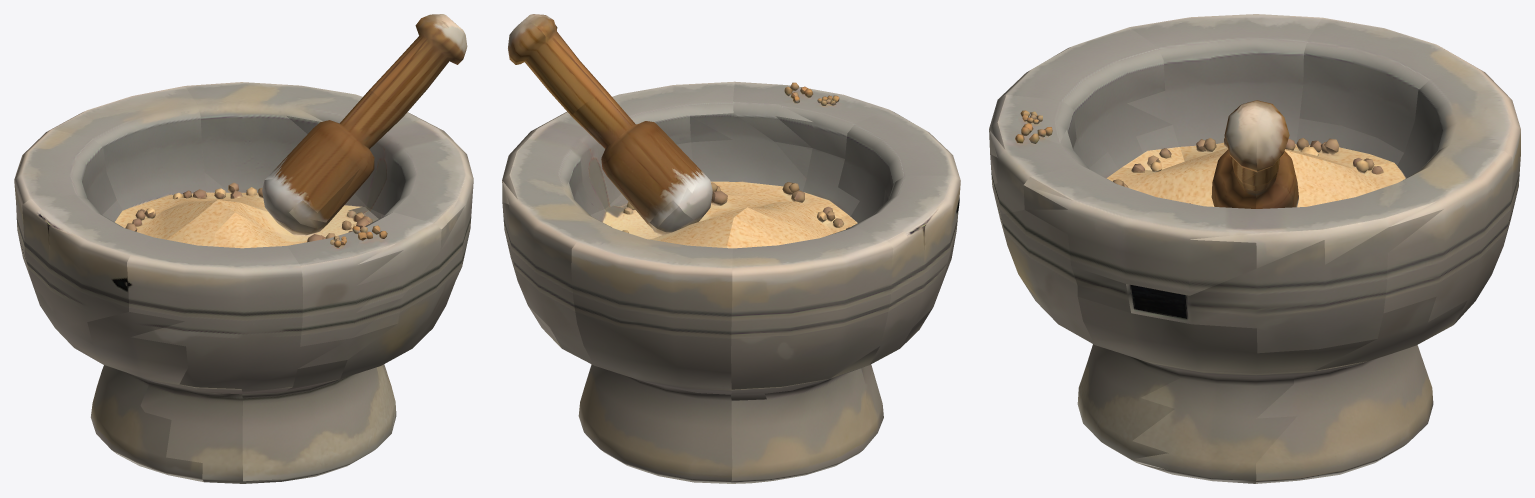
File: stone_mortar.glb
3 renders of one model, left to right at view 1: azimuth 30°, elevation 25°; view 2: azimuth 150°, elevation 25°; view 3: azimuth 270°, elevation 25°, orthographic. The views are drawn at different scales.
Parts seen in each view (by area): view 1: mesh_node; view 2: mesh_node; view 3: mesh_node.
Part boxes in pixels (box(x1,y1,x2,y2)): mesh_node: box(14, 14, 473, 483); mesh_node: box(502, 14, 960, 483); mesh_node: box(989, 14, 1520, 483).
Bounding box in the file's own units: 1 × 0.834 × 0.9609.
Materials: 1 (1 with a texture image).
